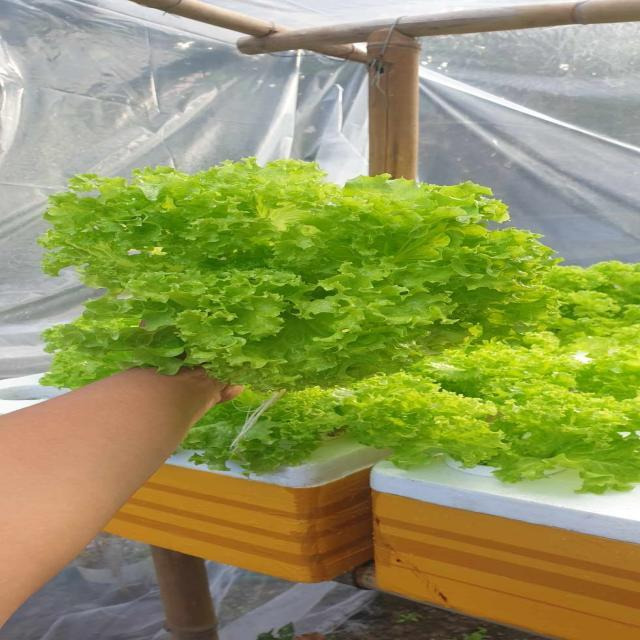Lettuce-Ready-to-Harvest: (35, 151, 558, 397), (344, 371, 503, 472), (497, 380, 637, 490)
